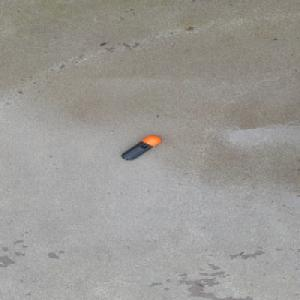PlasticPart: (119, 135, 162, 160)
